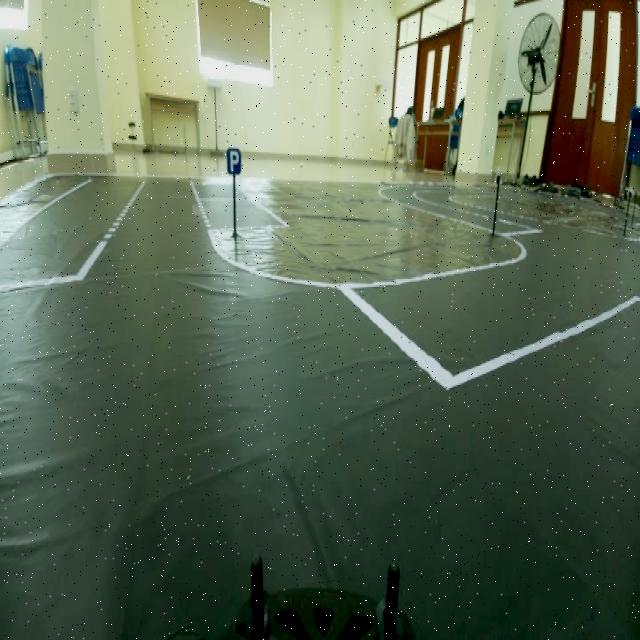parking: (224, 146, 248, 177)
